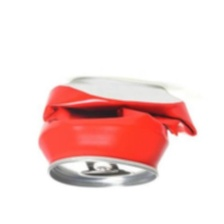can: (32, 70, 209, 196)
